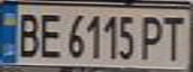1: (84, 11, 103, 60), (103, 11, 121, 60)
5: (115, 11, 139, 61)
6: (63, 10, 87, 60)
B: (12, 9, 42, 60)
E: (33, 9, 63, 60)
P: (136, 11, 169, 61)
T: (157, 12, 190, 62)
